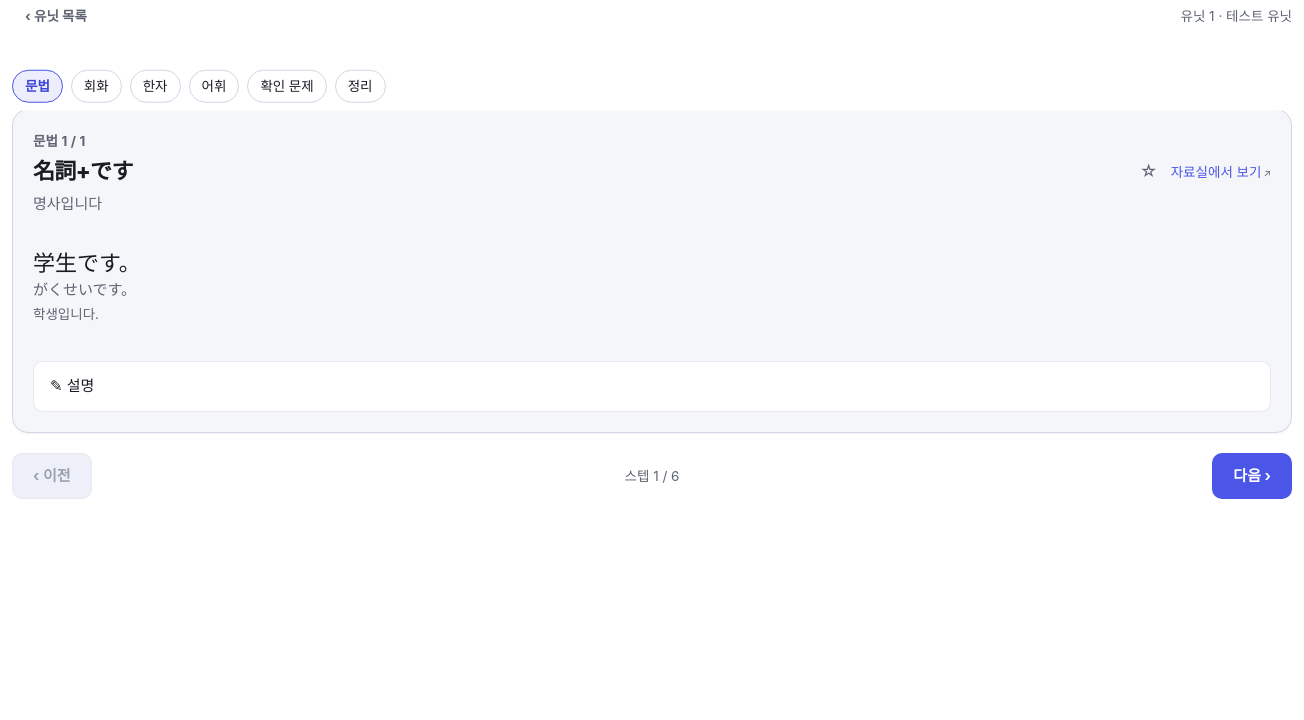
Test: UnitStudyPage — 자료실 나가는 링크 (설계/05 §11, 인수 29~31) › 어휘 스텝: 단어 셀이 자료실 검색(q=단어)으로 열린다
Click the button "어휘".
click(214, 86)  # box [188,70,239,102]
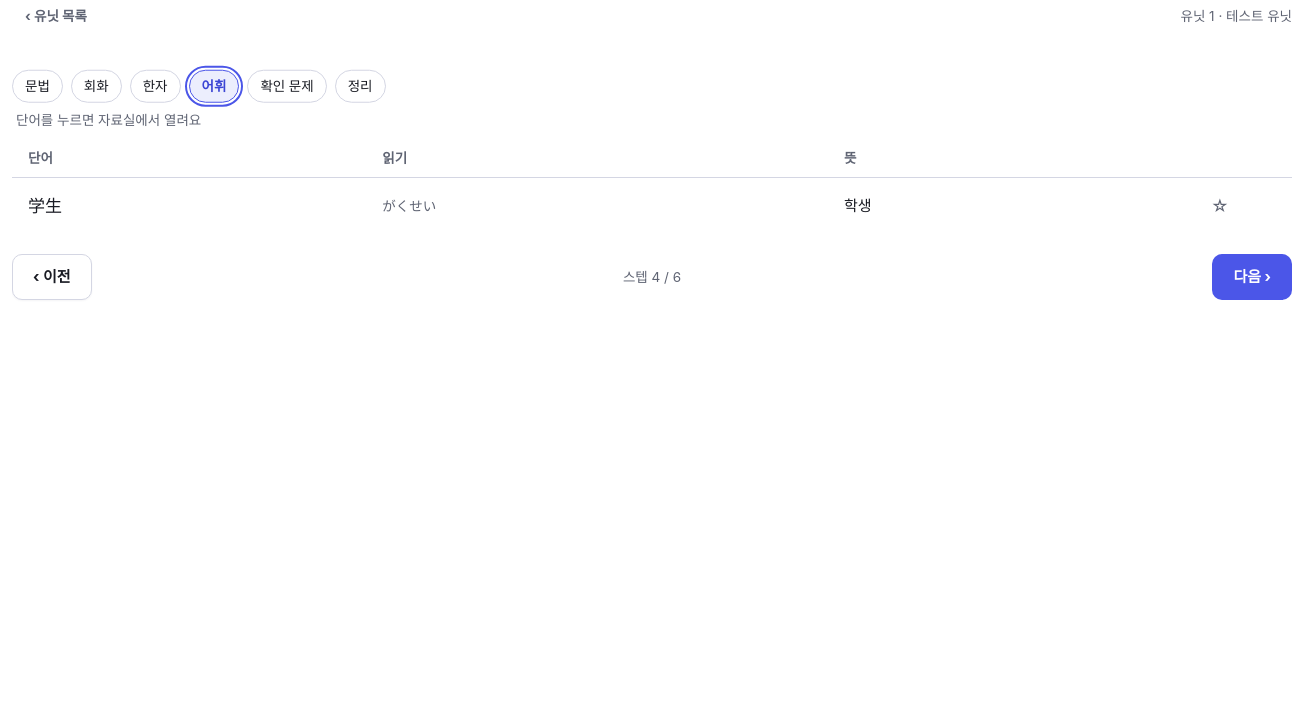
expect the text "단어를 누르면 자료실에서 열려요" is shown: met, box [16,112,201,128]
